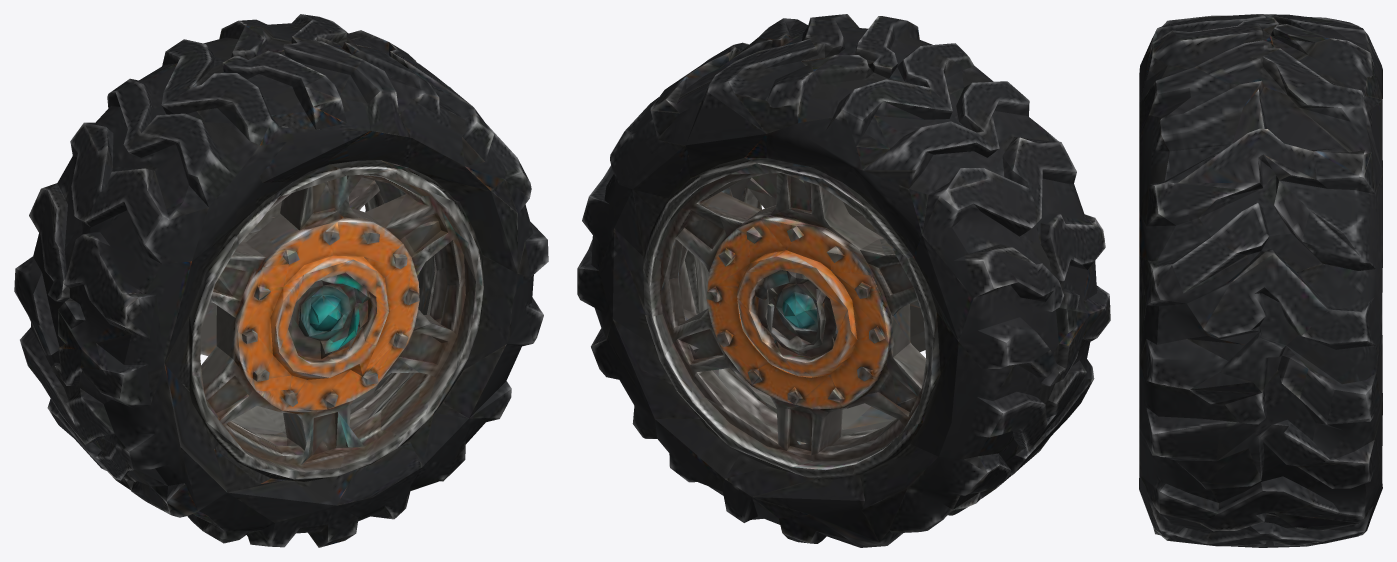
File: scrapwheel.glb
3 renders of one model, left to right at view 1: azimuth 30°, elevation 25°; view 2: azimuth 150°, elevation 25°; view 3: azimuth 270°, elevation 25°, orthographic. The views are drawn at different scales.
Parts seen in each view (by area): view 1: Mesh_0; view 2: Mesh_0; view 3: Mesh_0.
Part boxes in pixels (x1=…): Mesh_0: x1=14, y1=14, x2=548, y2=547; Mesh_0: x1=577, y1=14, x2=1110, y2=547; Mesh_0: x1=1139, y1=14, x2=1382, y2=547.
Size of the model in its own units: 0.5485 by 0.55 by 0.2495.
Materials: 1 (1 with a texture image).
